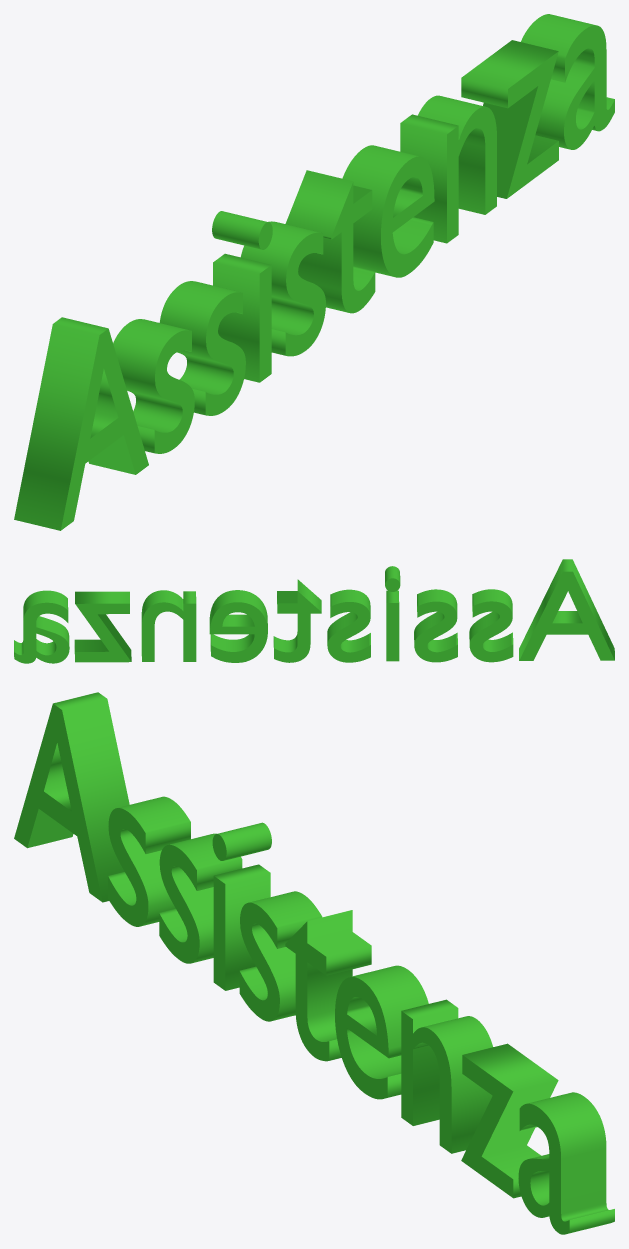
File: NewWebMenuAssistenza6.gltf
3 renders of one model, top to bottom at view 1: azimuth 30°, elevation 25°; view 2: azimuth 150°, elevation 25°; view 3: azimuth 270°, elevation 25°, orthographic. The views are drawn at different scales.
Parts seen in each view (by area): view 1: Assistenza; view 2: Assistenza; view 3: Assistenza.
Part boxes in pixels (x1,y1,x2,y2): Assistenza: (14, 14, 614, 530); Assistenza: (14, 559, 614, 663); Assistenza: (14, 692, 614, 1234).
Size of the model in its own units: 0.81 by 0.1518 by 0.5.
